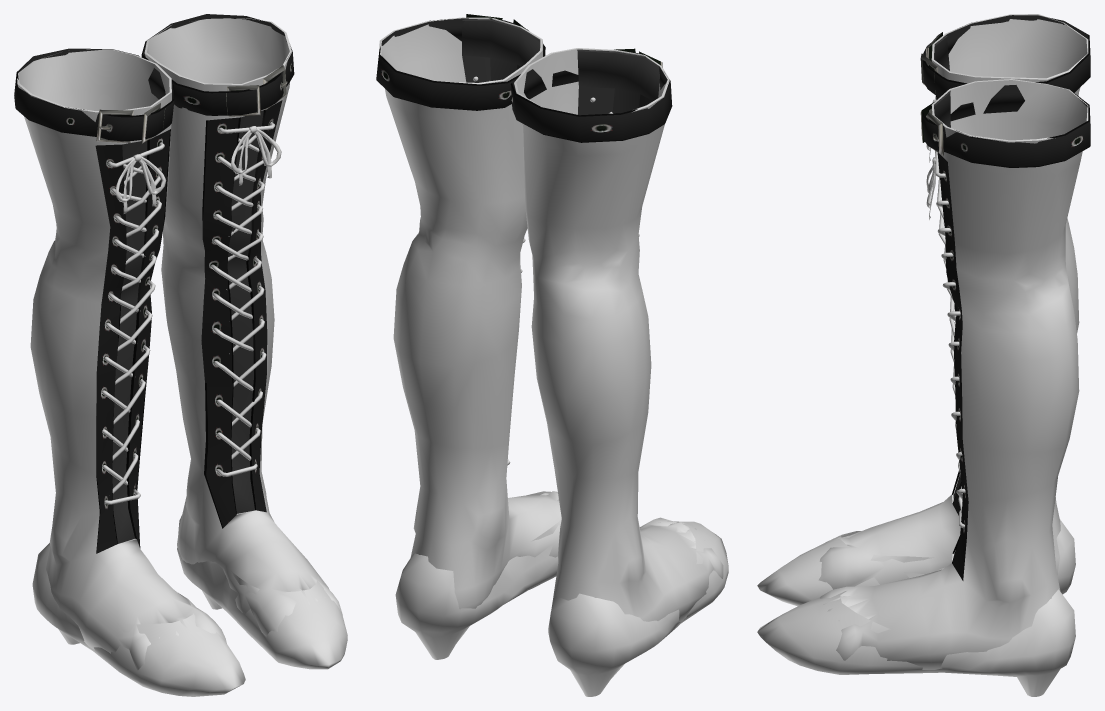
File: Mistress-Boots.fbx
The picture shows the model from 3 angles, left to right: view 1: azimuth 30°, elevation 25°; view 2: azimuth 150°, elevation 25°; view 3: azimuth 270°, elevation 25°; orthographic projection. The views are drawn at different scales.
Visible parts, largest first — view 1: カスタム少女_mesh; view 2: カスタム少女_mesh; view 3: カスタム少女_mesh.
Boxes of the visible parts, <box> form: カスタム少女_mesh: <box>14,14,347,696</box>; カスタム少女_mesh: <box>376,14,728,696</box>; カスタム少女_mesh: <box>757,14,1090,696</box>.
Bounding box in the file's own units: 29.85 × 62.58 × 32.53.
Materials: 4 (3 with a texture image).
